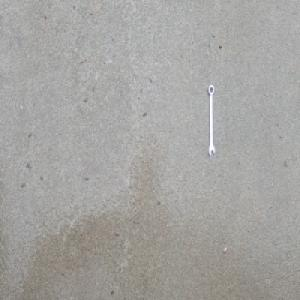Wrench: (207, 83, 215, 157)
